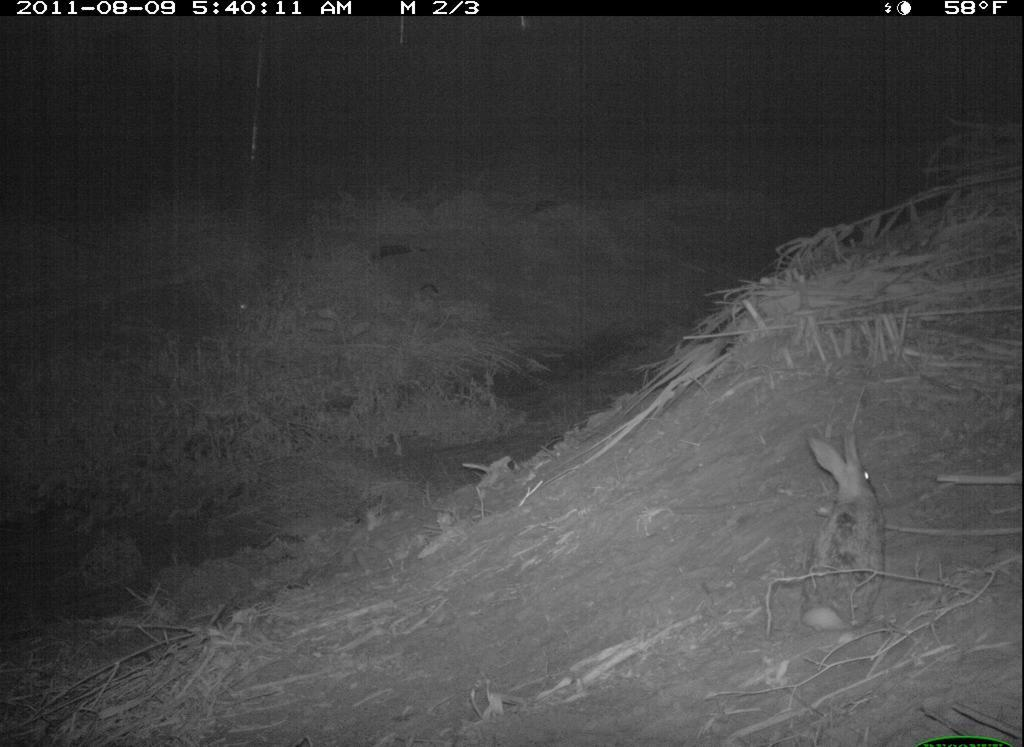rabbit: (790, 415, 897, 642)
